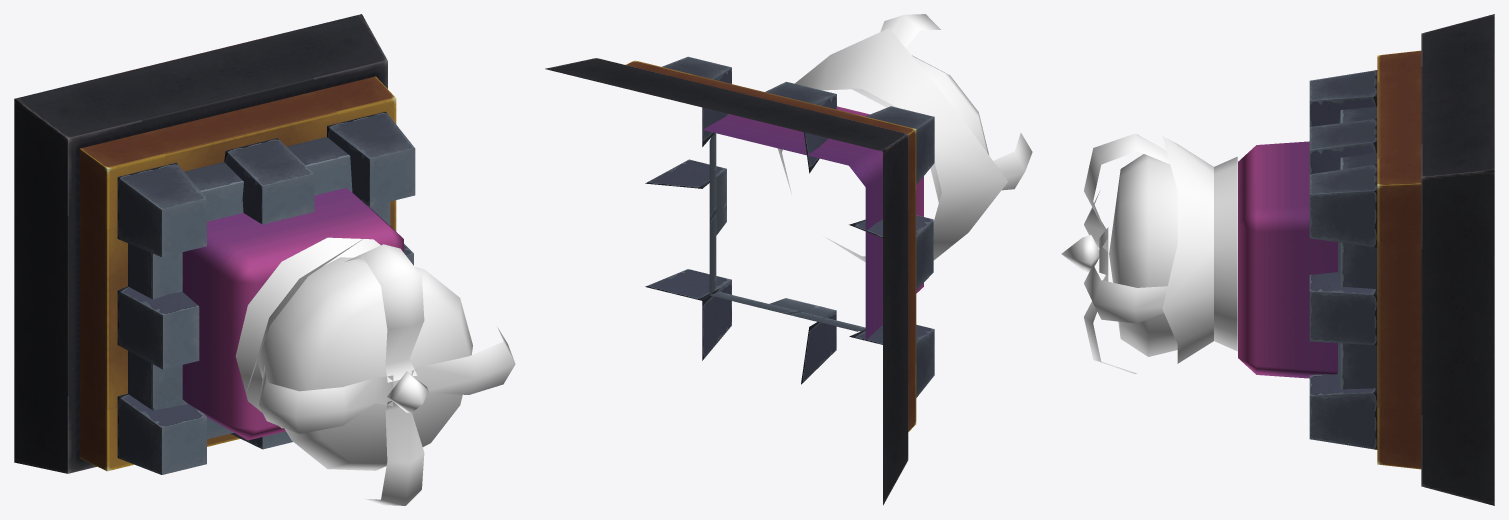
The model's file is jellyking_x2_01.glb.
The picture shows the model from 3 angles, left to right: view 1: azimuth 30°, elevation 25°; view 2: azimuth 150°, elevation 25°; view 3: azimuth 270°, elevation 25°; orthographic projection. The views are drawn at different scales.
Visible parts, largest first — view 1: boss.jellyking_x2_01-MeshNodes["trophy_jellyking_t2"], parts.model_hat-Mesh[0], boss.jellyking_x2_01-MeshNodes["trophy_jellyking_t2_crenel"], boss.jellyking_x2_01-MeshNodes["trophy_jellyking_t2_platform; view 2: boss.jellyking_x2_01-MeshNodes["trophy_jellyking_t2"], parts.model_hat-Mesh[0], boss.jellyking_x2_01-MeshNodes["trophy_jellyking_t2_crenel"], boss.jellyking_x2_01-MeshNodes["trophy_jellyking_t2_platform; view 3: boss.jellyking_x2_01-MeshNodes["trophy_jellyking_t2"], parts.model_hat-Mesh[0], boss.jellyking_x2_01-MeshNodes["trophy_jellyking_t2_crenel"], boss.jellyking_x2_01-MeshNodes["trophy_jellyking_t2_platform.
Boxes of the visible parts, x1,y1,x2,y2 form: boss.jellyking_x2_01-MeshNodes["trophy_jellyking_t2"]: (14, 14, 396, 473); parts.model_hat-Mesh[0]: (235, 237, 515, 505); boss.jellyking_x2_01-MeshNodes["trophy_jellyking_t2_crenel"]: (117, 111, 415, 474); boss.jellyking_x2_01-MeshNodes["trophy_jellyking_t2_platform: (182, 188, 403, 440); boss.jellyking_x2_01-MeshNodes["trophy_jellyking_t2"]: (545, 58, 916, 505); parts.model_hat-Mesh[0]: (777, 14, 1032, 262); boss.jellyking_x2_01-MeshNodes["trophy_jellyking_t2_crenel"]: (645, 56, 934, 397); boss.jellyking_x2_01-MeshNodes["trophy_jellyking_t2_platform: (703, 106, 923, 340); boss.jellyking_x2_01-MeshNodes["trophy_jellyking_t2"]: (1377, 14, 1494, 505); parts.model_hat-Mesh[0]: (1061, 133, 1237, 374); boss.jellyking_x2_01-MeshNodes["trophy_jellyking_t2_crenel"]: (1309, 70, 1377, 449); boss.jellyking_x2_01-MeshNodes["trophy_jellyking_t2_platform: (1238, 141, 1337, 378).
Bounding box in the file's own units: 2.02 × 2.02 × 2.37.
4 materials, 3 textured.
